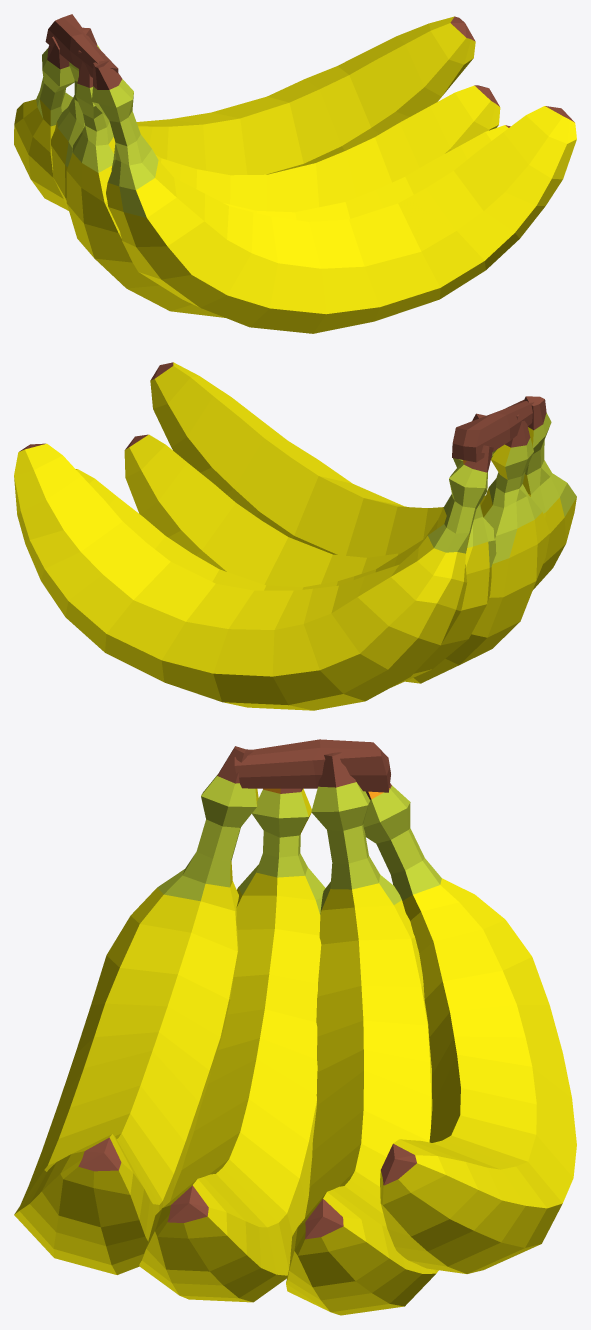
Rendered from bananas00.fbx.
The picture shows the model from 3 angles, top to bottom: view 1: azimuth 30°, elevation 25°; view 2: azimuth 150°, elevation 25°; view 3: azimuth 270°, elevation 25°; orthographic projection. The views are drawn at different scales.
Parts seen in each view (by area): view 1: Cube.010; view 2: Cube.010; view 3: Cube.010.
Part boxes in pixels (<box>): Cube.010: <box>14,14,576,333</box>; Cube.010: <box>14,362,576,710</box>; Cube.010: <box>14,739,576,1315</box>.
Bounding box in the file's own units: 157 × 102 × 132.
